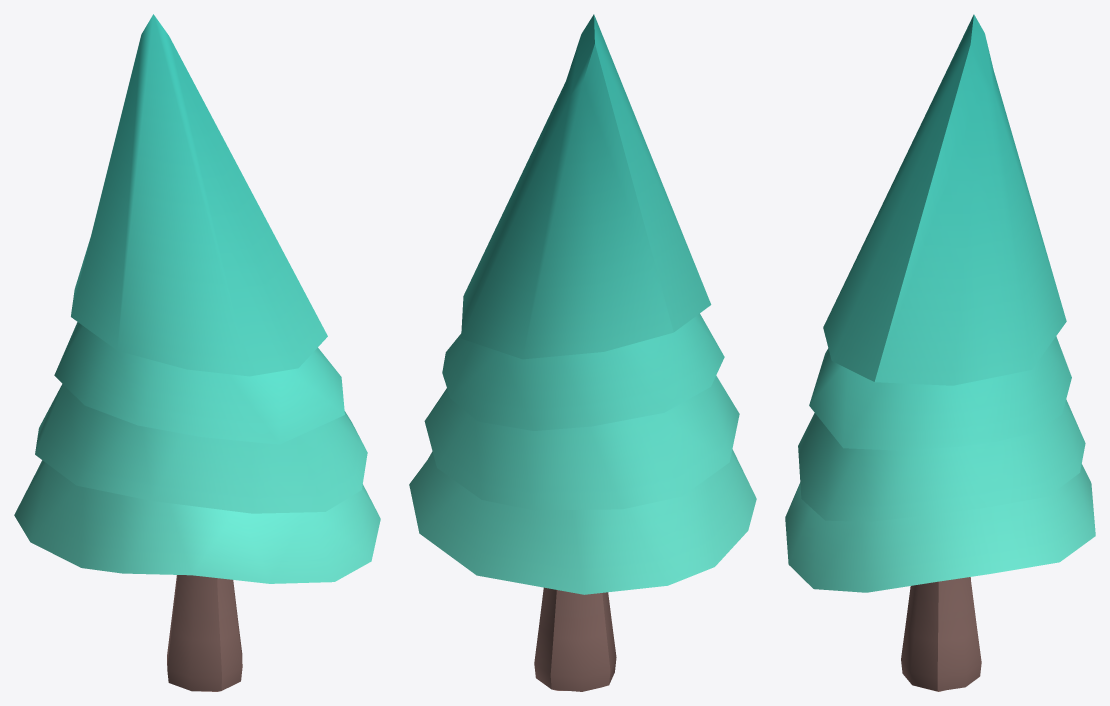
Rendered from Tree02_M_Blue.fbx.
3 renders of one model, left to right at view 1: azimuth 30°, elevation 25°; view 2: azimuth 150°, elevation 25°; view 3: azimuth 270°, elevation 25°, orthographic. The views are drawn at different scales.
Visible parts, largest first — view 1: Tree02_M_Blue; view 2: Tree02_M_Blue; view 3: Tree02_M_Blue.
Boxes of the visible parts, box(x1,y1,x2,y2) form: Tree02_M_Blue: box(14, 14, 380, 691); Tree02_M_Blue: box(409, 14, 756, 691); Tree02_M_Blue: box(785, 14, 1095, 691).
Size of the model in its own units: 7.11 by 14.9 by 6.46.
